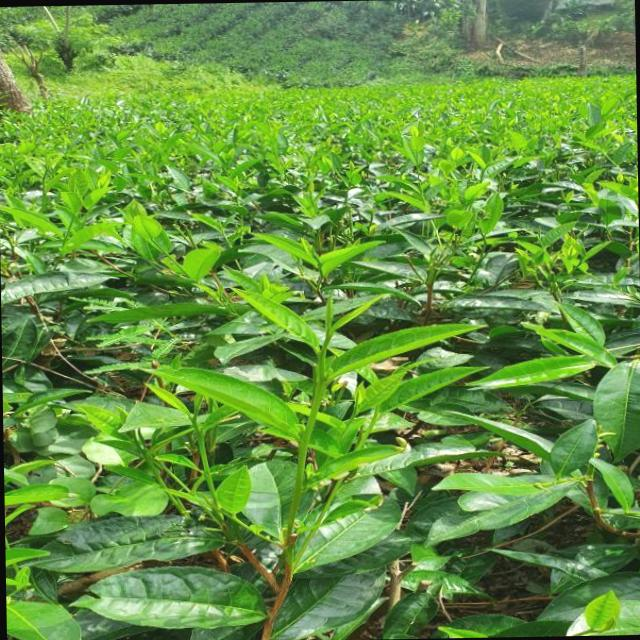Stem: (317, 351, 323, 360), (191, 418, 195, 424), (317, 265, 320, 270), (580, 255, 583, 259), (41, 176, 44, 180), (480, 170, 482, 173)
